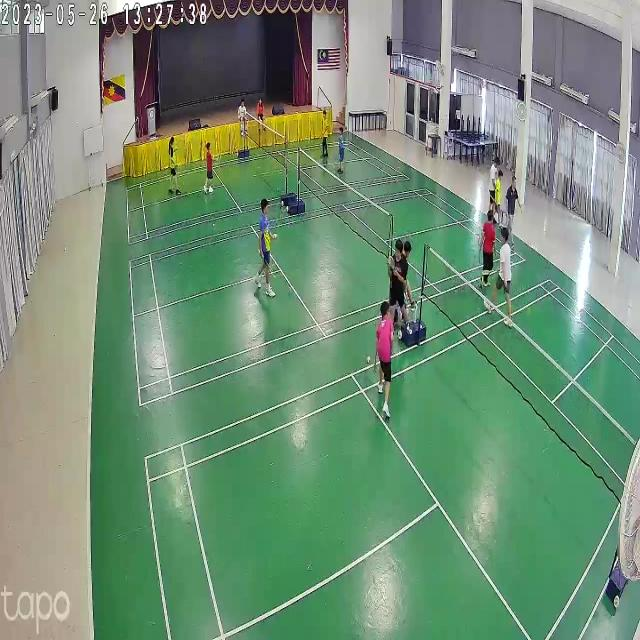Head: (260, 196, 270, 215), (380, 298, 390, 316), (395, 239, 403, 259), (402, 241, 412, 257), (501, 225, 509, 241), (486, 208, 493, 221), (494, 155, 500, 168), (322, 109, 327, 122), (512, 176, 517, 189), (498, 170, 503, 181), (170, 135, 174, 145), (242, 97, 245, 108), (259, 97, 263, 105), (339, 126, 343, 134), (207, 142, 210, 150)
